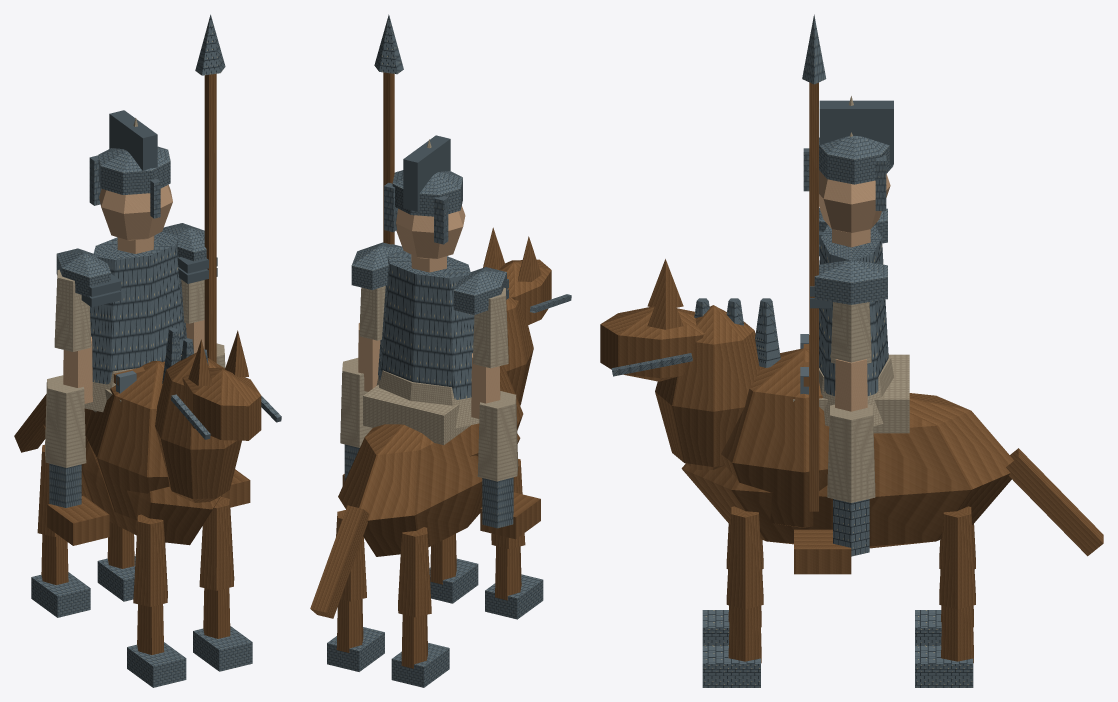
Rendered from unit-CAVALRY-lod1.glb.
3 views of the same model, side by side, from view 1: azimuth 30°, elevation 25°; view 2: azimuth 150°, elevation 25°; view 3: azimuth 270°, elevation 25° (orthographic). The views are drawn at different scales.
Size of the model in its own units: 0.218 by 0.705 by 0.4738.
1 material, 1 textured.
